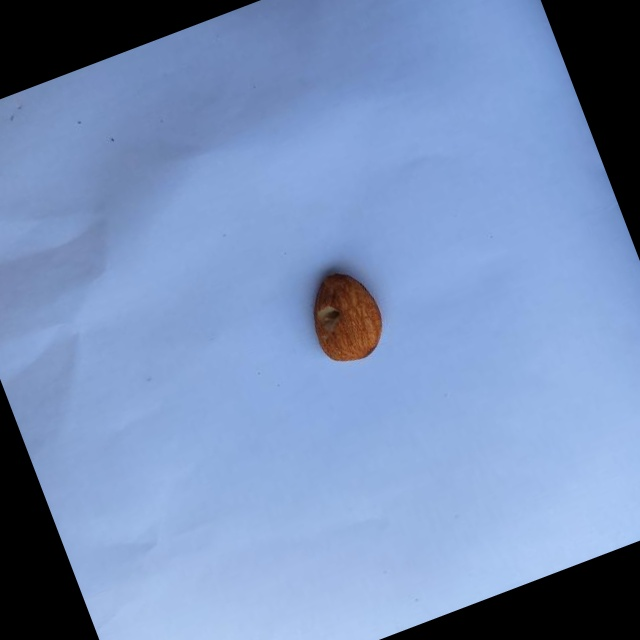grade3: (292, 258, 397, 377)
